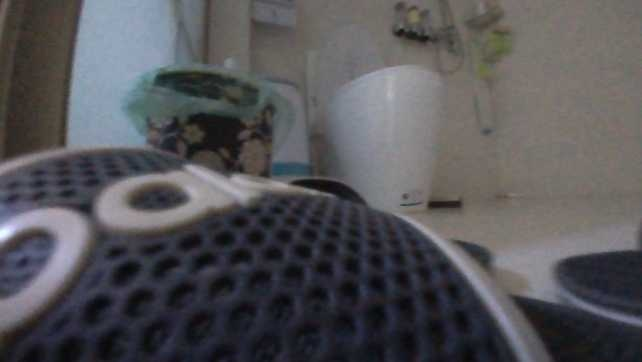toilet: (300, 19, 446, 216)
